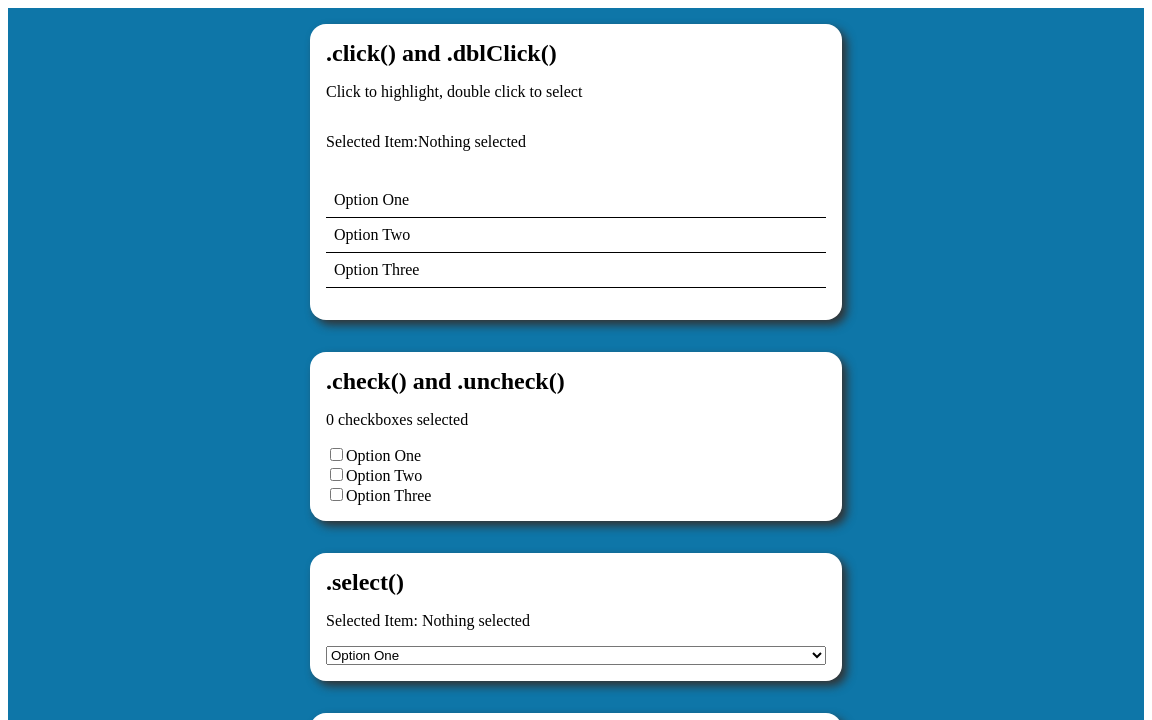
Third block, commands: select › Validate second option
This screenshot has width=1152, height=720.
Select "1" in the dropdown with test id "box-3-dropdown" at (576, 656), box 326,646 -> 826,665
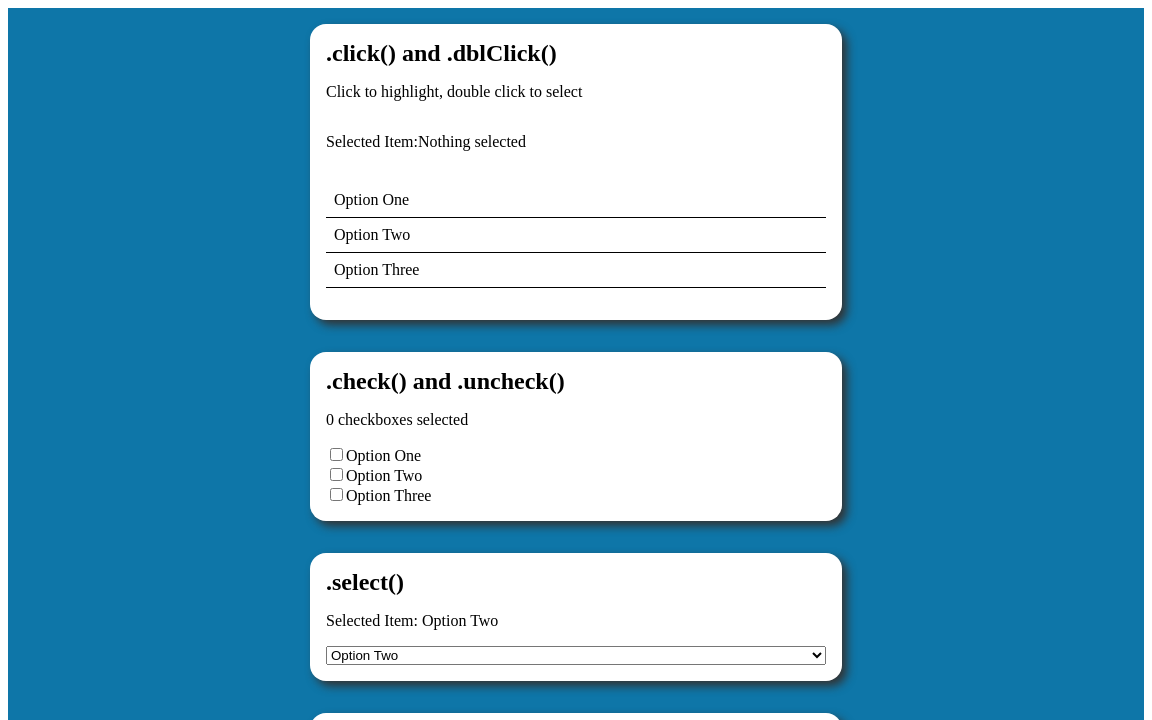
Result: the text with test id "box-3-selected-name" reads "Option Two" at 422,612 -> 498,629
